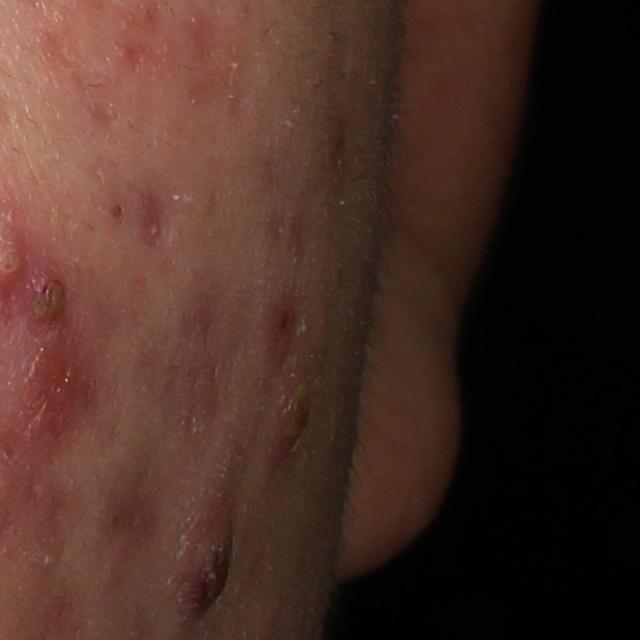atrophic_scar: (134, 188, 173, 252)
comedo: (108, 200, 128, 228)
pustule: (25, 265, 75, 327)
